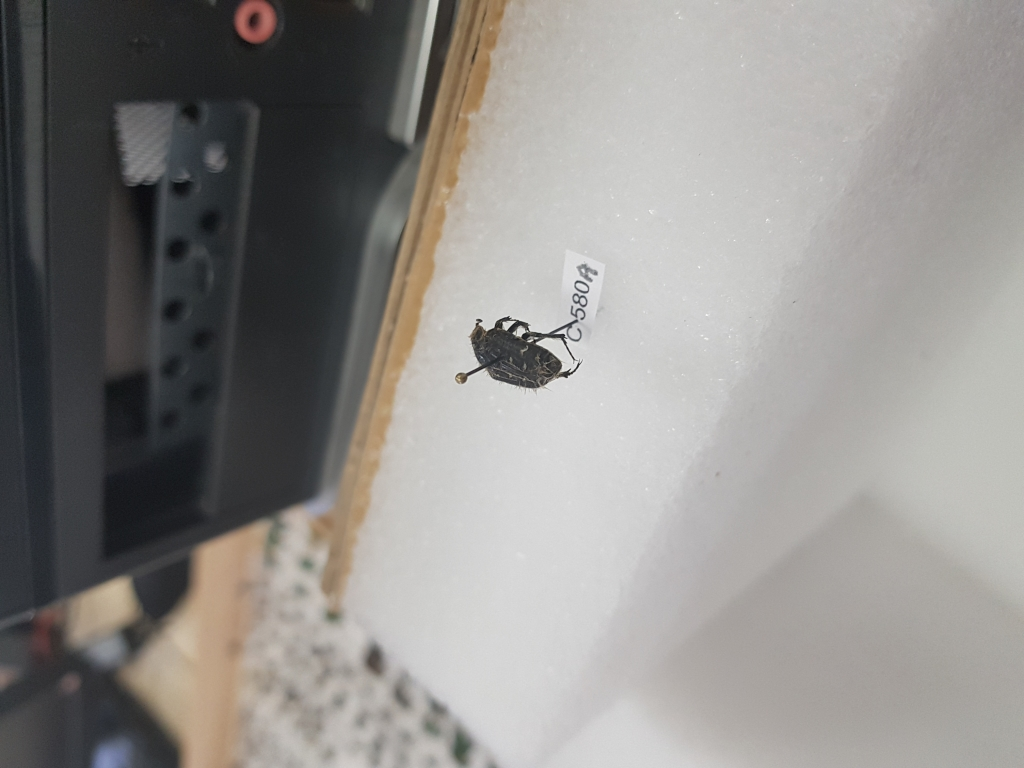Tropinota_hirta: (465, 305, 588, 400)
